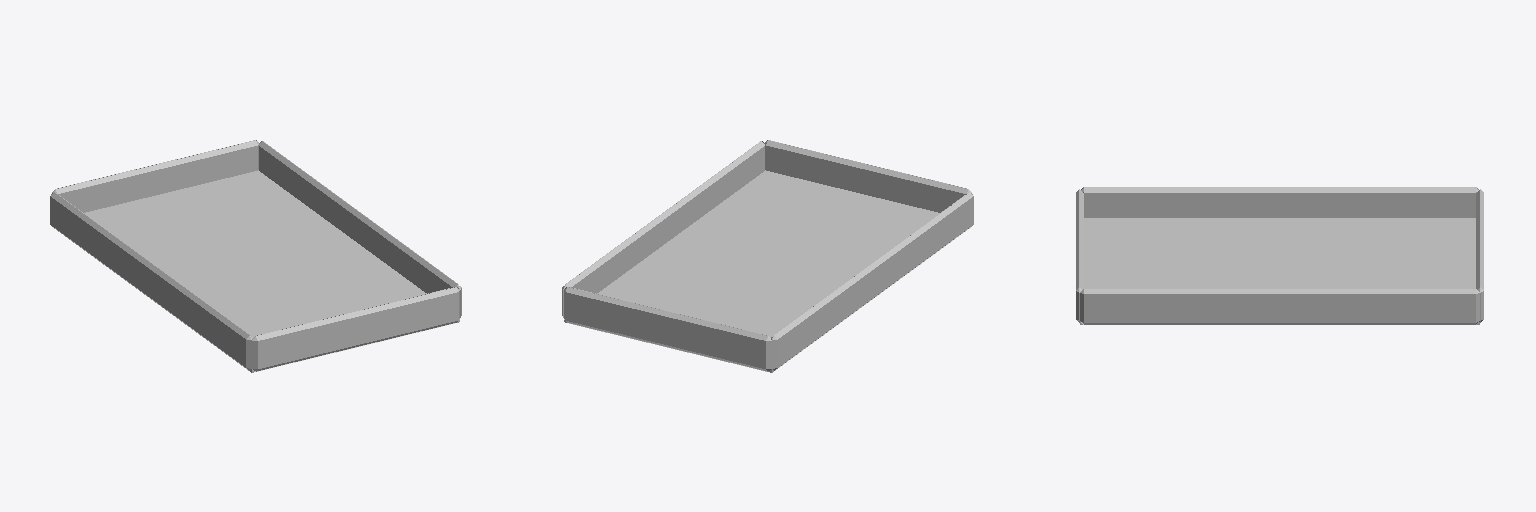
Rendered from bottom2.obj.
3 views of the same model, side by side, from view 1: azimuth 30°, elevation 25°; view 2: azimuth 150°, elevation 25°; view 3: azimuth 270°, elevation 25° (orthographic).
Parts seen in each view (by area): view 1: Box001, Box007, Box004, Box006, Box005; view 2: Box001, Box005, Box004, Box006, Box007; view 3: Box001, Box006, Box004, Box005, Box007.
Boxes of the visible parts, <box> form: Box001: <box>52,170,459,372</box>; Box007: <box>252,287,460,371</box>; Box004: <box>50,192,252,370</box>; Box006: <box>259,141,461,315</box>; Box005: <box>52,140,259,212</box>; Box001: <box>564,170,971,372</box>; Box005: <box>563,287,771,371</box>; Box004: <box>771,192,973,370</box>; Box006: <box>562,141,764,315</box>; Box007: <box>764,140,971,212</box>; Box001: <box>1080,218,1479,324</box>; Box006: <box>1080,289,1479,324</box>; Box004: <box>1081,187,1478,217</box>; Box005: <box>1476,189,1483,322</box>; Box007: <box>1076,189,1083,322</box>.
Bounding box in the file's own units: 62 × 10 × 102.